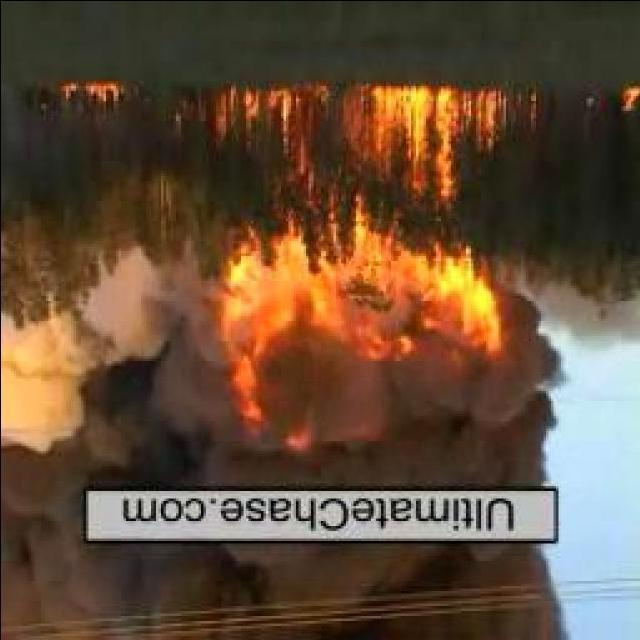Fire: (216, 86, 502, 376), (53, 78, 128, 105), (622, 76, 640, 122)
